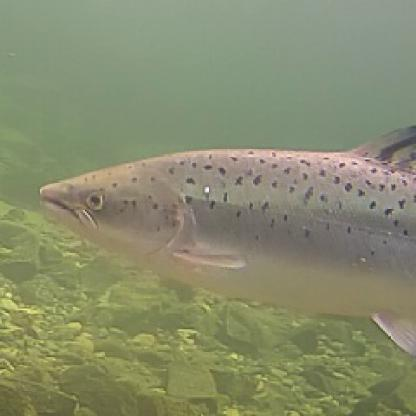salmon: (29, 118, 414, 355)
